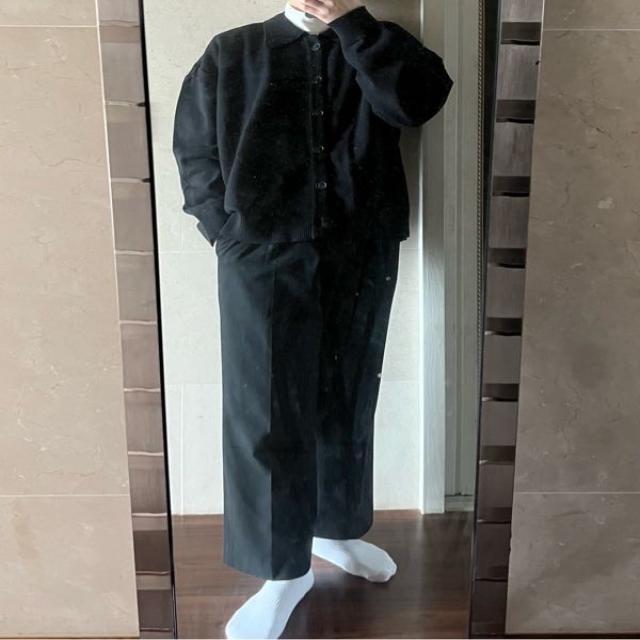cardigan: (170, 17, 456, 245)
slacks: (210, 218, 409, 578)
